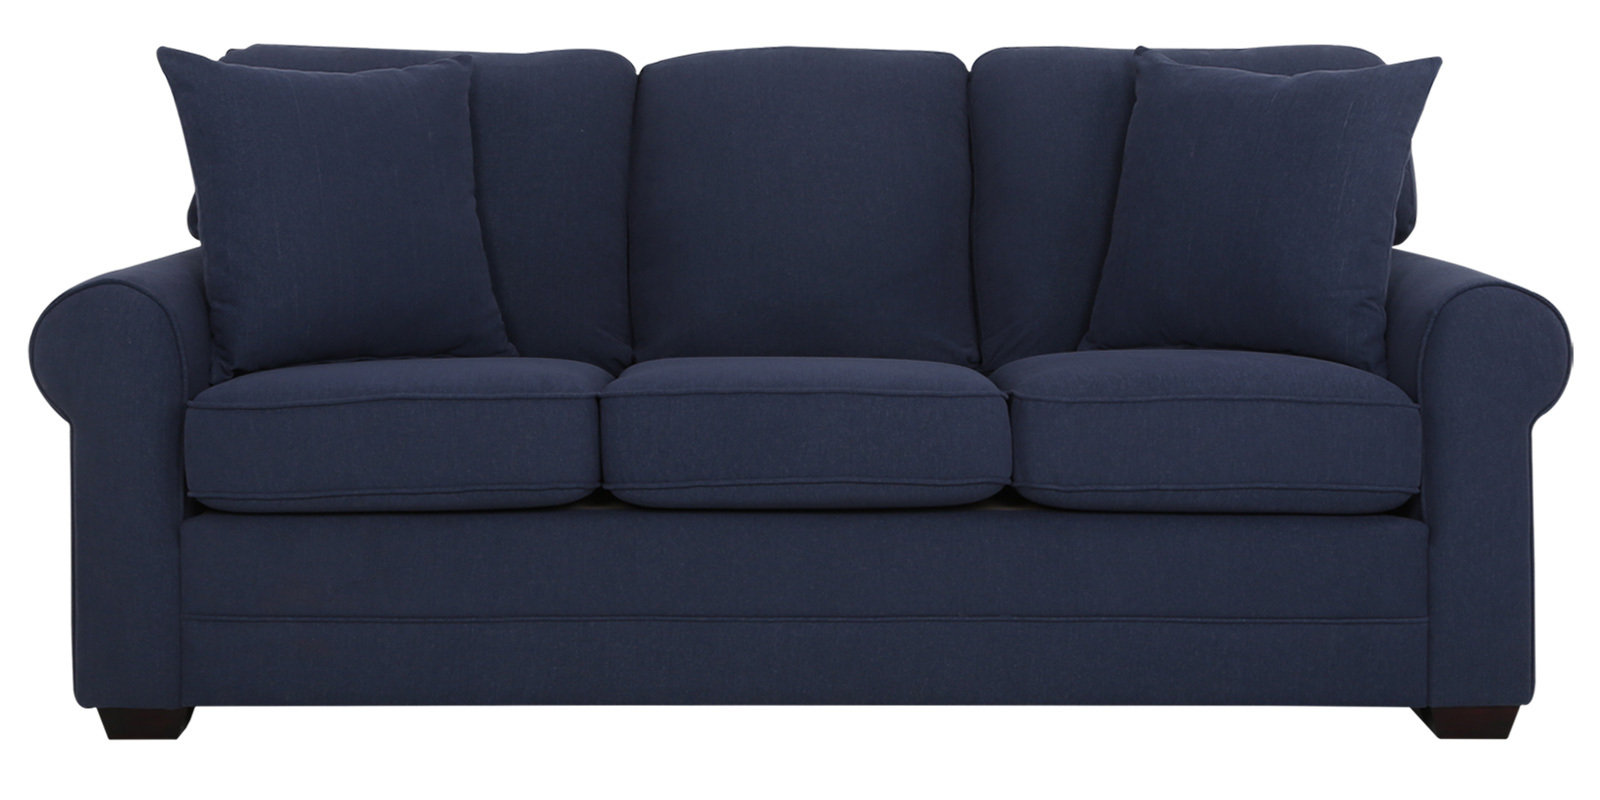Madeira Three Seater Sofa in Navy Blue Colour by CasaCraft: (30, 31, 1577, 741)
